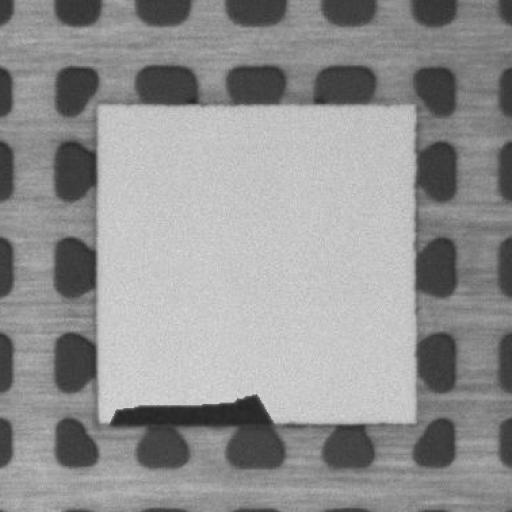DIE_BROKEN: (106, 392, 276, 424)
